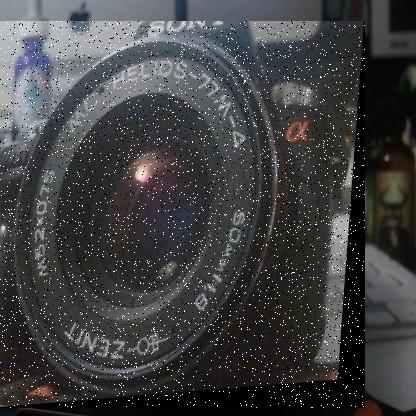Camera: (1, 22, 367, 410)
